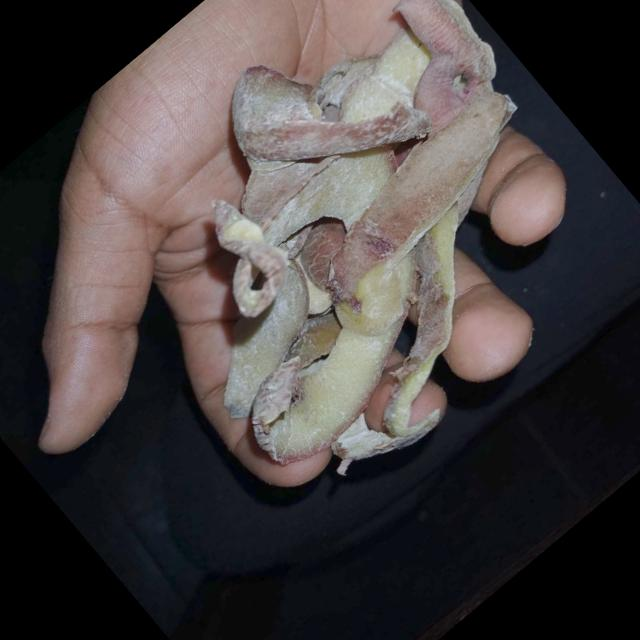organic: (61, 0, 640, 525)
